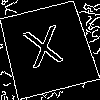X: (22, 24, 69, 78)
